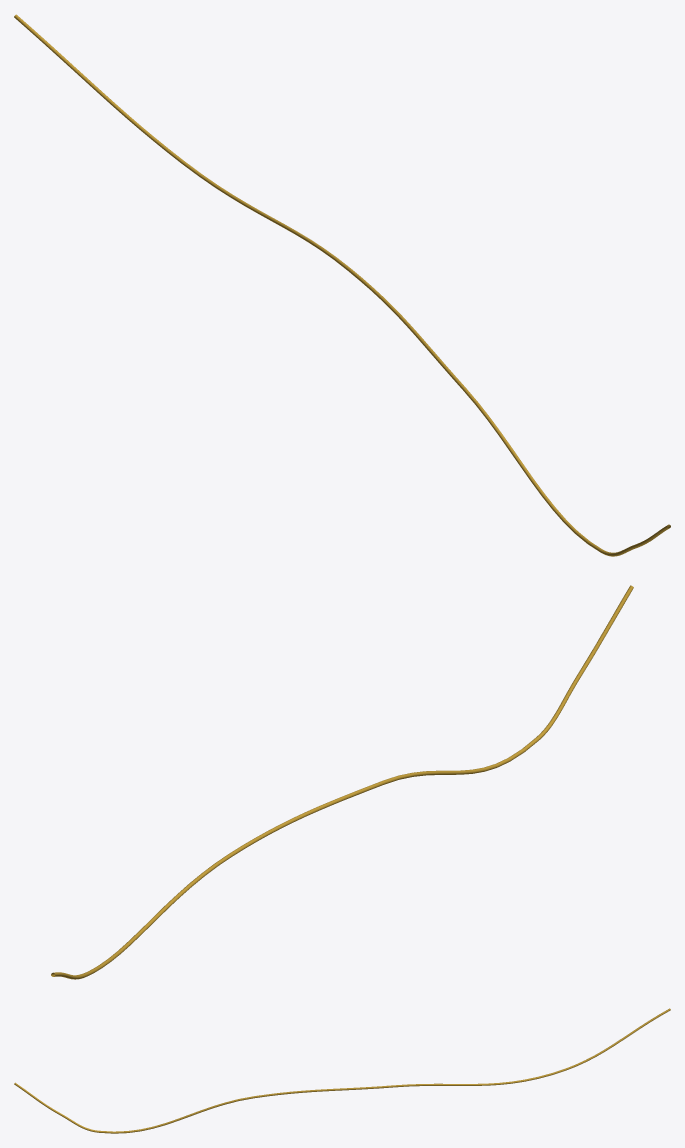
3 views of the same model, one above another, from view 1: azimuth 30°, elevation 25°; view 2: azimuth 150°, elevation 25°; view 3: azimuth 270°, elevation 25° (orthographic). The views are drawn at different scales.
Parts seen in each view (by area): view 1: 左侧闭孔神经前支; view 2: 左侧闭孔神经前支; view 3: 左侧闭孔神经前支.
Part boxes in pixels (x1,y1,x2,y2): 左侧闭孔神经前支: [14, 14, 670, 556]; 左侧闭孔神经前支: [51, 585, 633, 979]; 左侧闭孔神经前支: [14, 1008, 670, 1133].
Size of the model in its own units: 0.0404 by 0.0784 by 0.4487.
